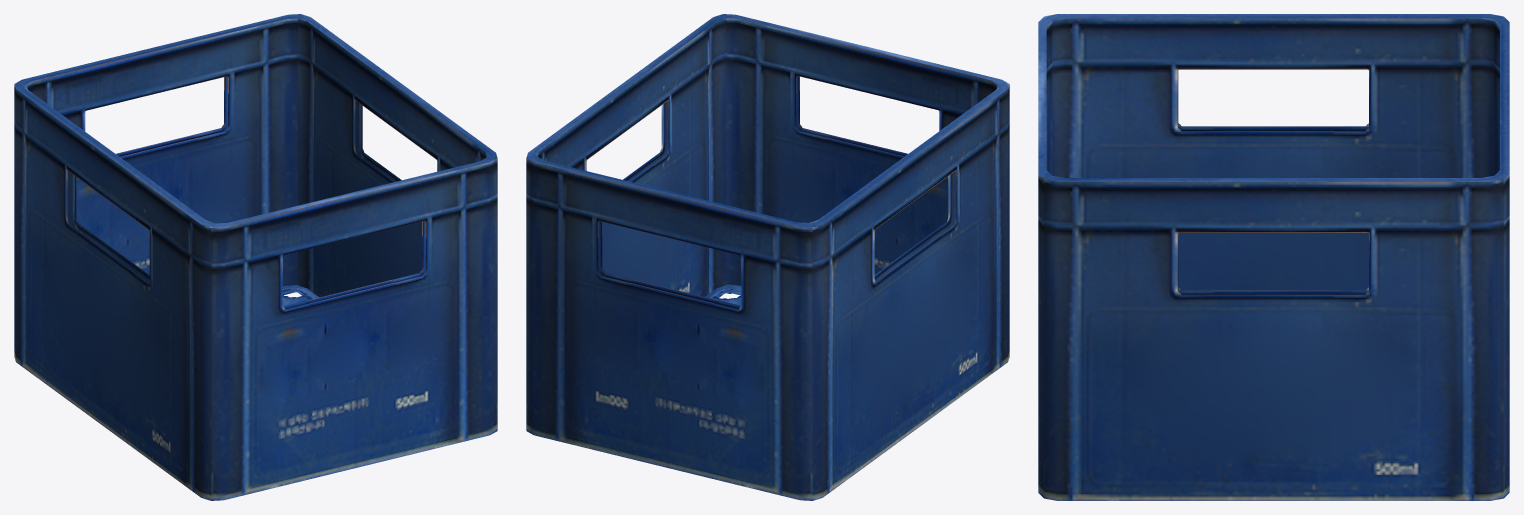
File: bottle_case-2.FBX
3 views of the same model, side by side, from view 1: azimuth 30°, elevation 25°; view 2: azimuth 150°, elevation 25°; view 3: azimuth 270°, elevation 25° (orthographic). The views are drawn at different scales.
Parts seen in each view (by area): view 1: Object01; view 2: Object01; view 3: Object01.
Part boxes in pixels (<box>): Object01: <box>14,14,497,500</box>; Object01: <box>526,14,1009,500</box>; Object01: <box>1038,14,1509,500</box>.
Size of the model in its own units: 15.36 by 13.6 by 18.2.
